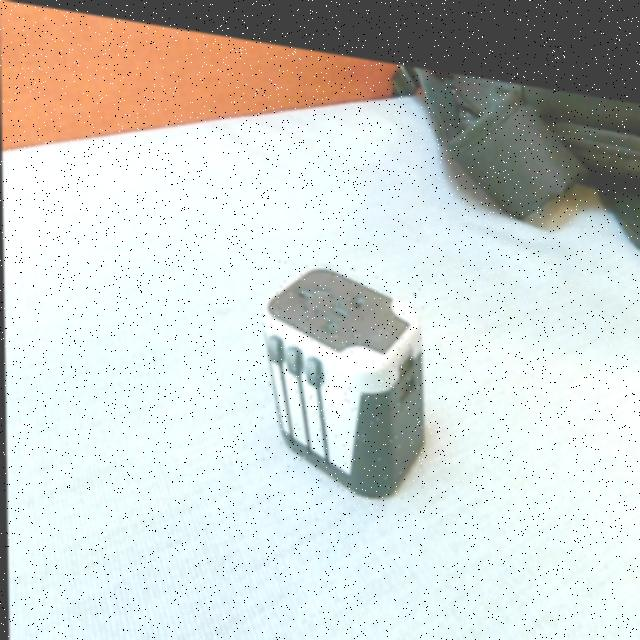adapter: (259, 245, 425, 492)
